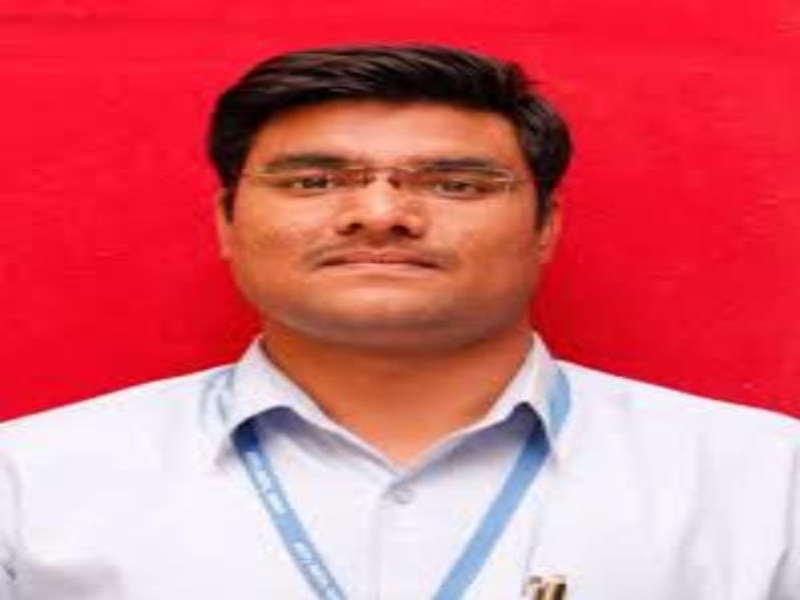TsisyArotava: (186, 21, 607, 473)
